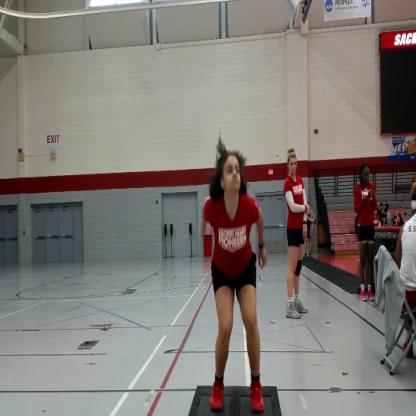lateral_flexion_right: (194, 139, 272, 416)
stance_width_normal: (199, 189, 271, 416)
